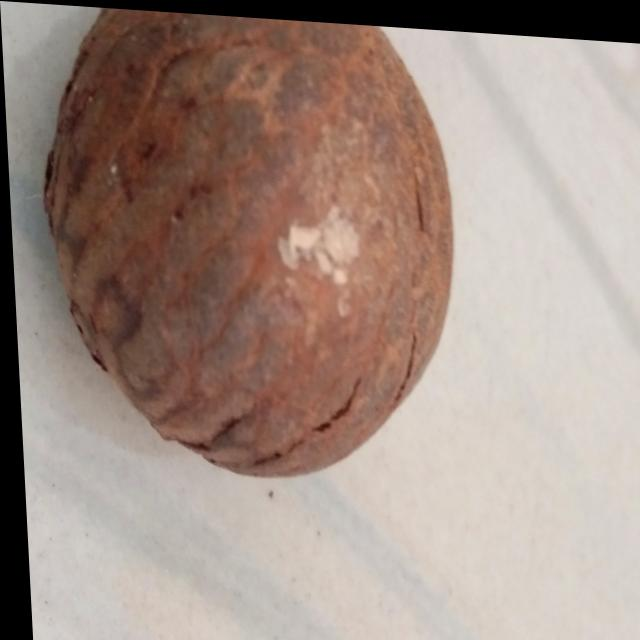karigot: (14, 1, 489, 494)
